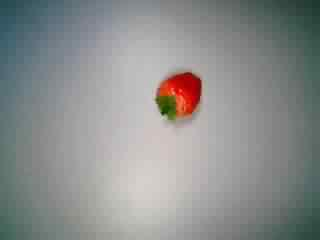strawberry: (143, 67, 209, 129)
